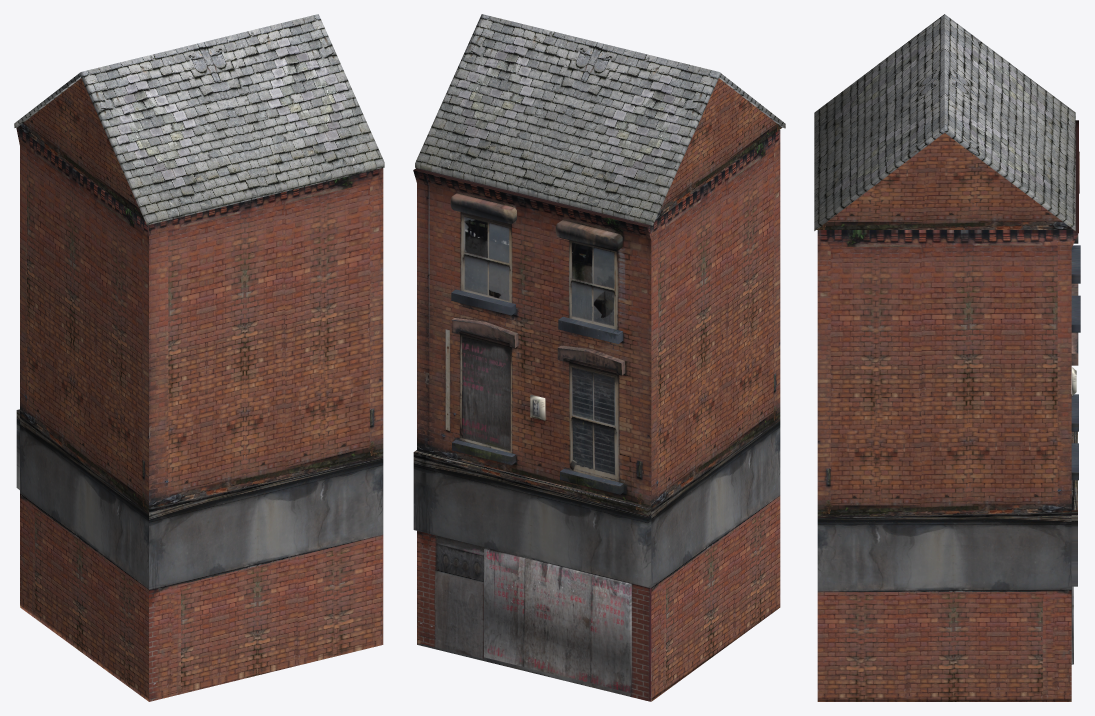
File: building22.obj
3 renders of one model, left to right at view 1: azimuth 30°, elevation 25°; view 2: azimuth 150°, elevation 25°; view 3: azimuth 270°, elevation 25°, orthographic.
Parts seen in each view (by area): view 1: building22; view 2: building22; view 3: building22.
Boxes of the visible parts, <box> form: building22: <box>14,14,384,701</box>; building22: <box>413,14,785,701</box>; building22: <box>814,14,1080,701</box>.
Size of the model in its own units: 234 by 548 by 230.
Materials: 1 (1 with a texture image).
